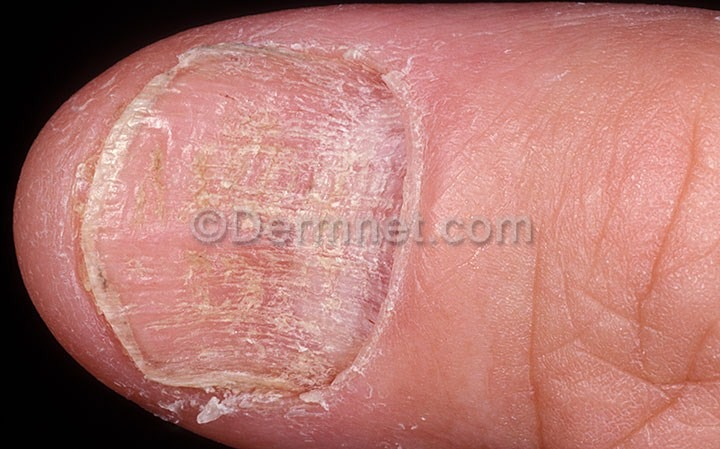Psoriasis: (58, 39, 477, 437)
